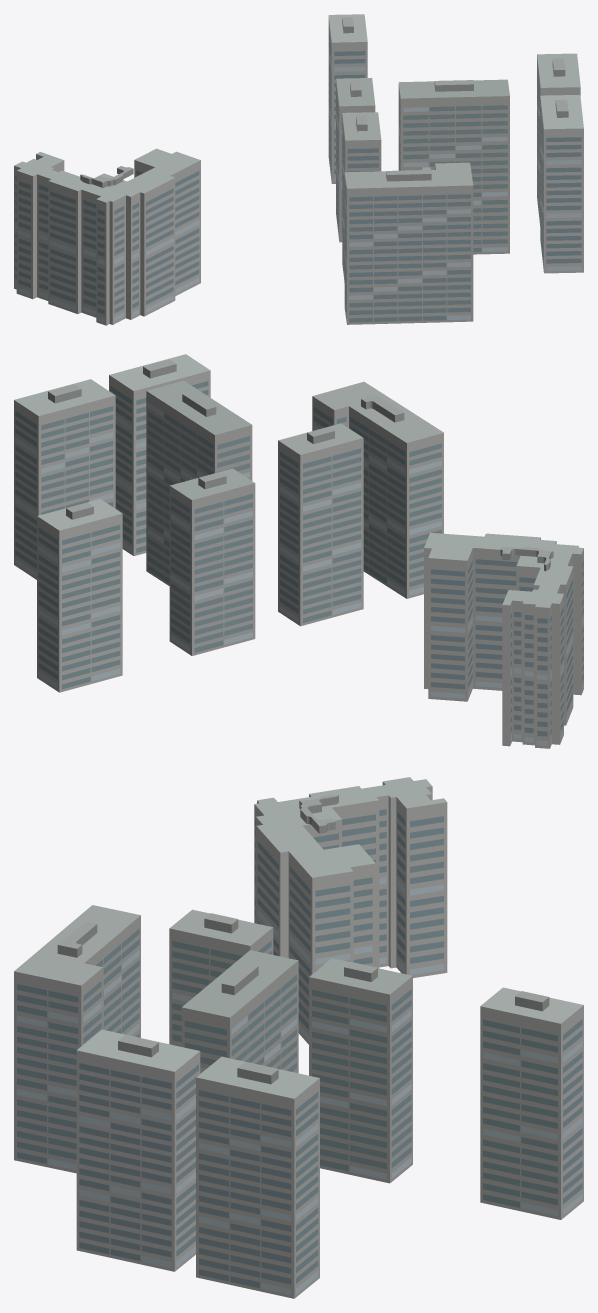
File: apt-a13082502.glb
The picture shows the model from 3 angles, top to bottom: view 1: azimuth 30°, elevation 25°; view 2: azimuth 150°, elevation 25°; view 3: azimuth 270°, elevation 25°; orthographic projection. The views are drawn at different scales.
Parts seen in each view (by area): view 1: apt-a13082502; view 2: apt-a13082502; view 3: apt-a13082502.
Boxes of the visible parts, x1,y1,x2,y2 form: apt-a13082502: [14, 14, 583, 325]; apt-a13082502: [14, 354, 583, 748]; apt-a13082502: [14, 777, 583, 1298].
Bounding box in the file's own units: 202 × 61 × 138.
